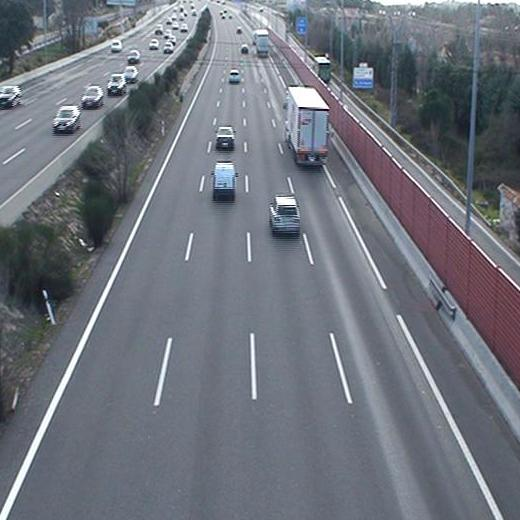car: (269, 195, 302, 240), (215, 125, 236, 149), (226, 69, 242, 84)
truck: (282, 85, 330, 169), (254, 28, 271, 58)
van: (209, 163, 239, 202)
